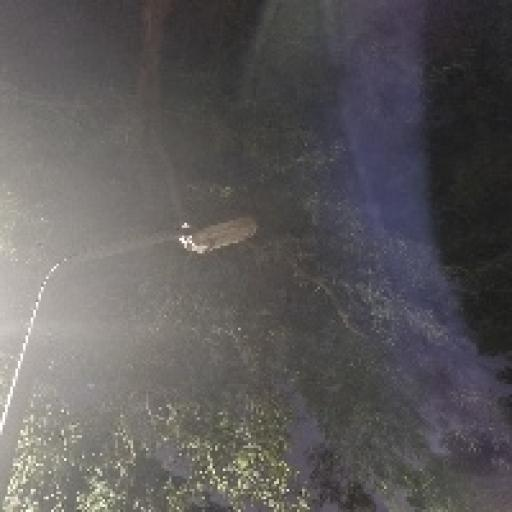Not Working: (166, 202, 270, 266)
